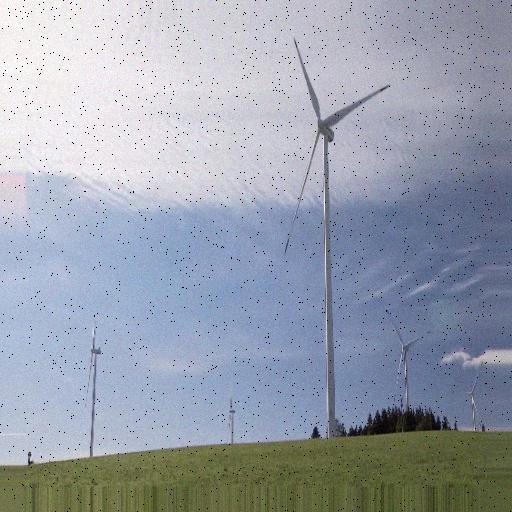wind turbine: (282, 37, 393, 429), (384, 316, 429, 422), (85, 323, 104, 457)
